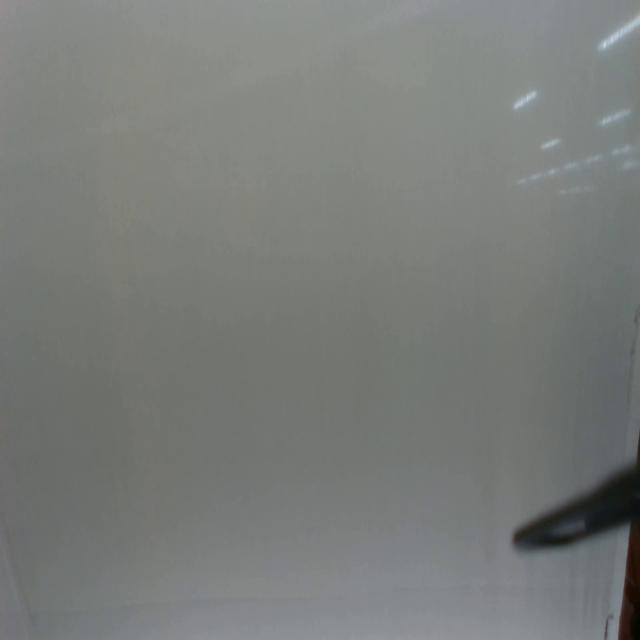hole: (604, 613, 613, 640)
